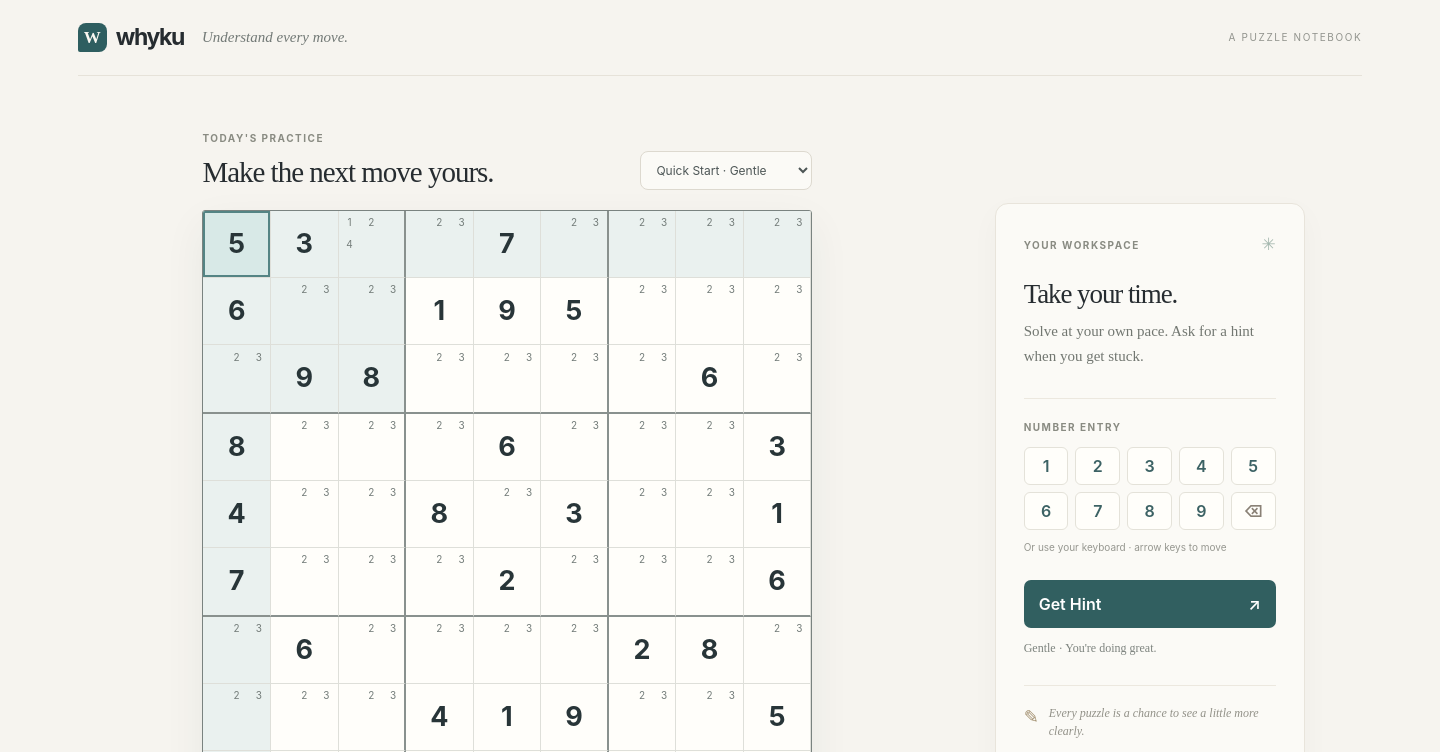
Test case: playable grid › keeps the selected editable cell selected after keyboard entry and refreshes backend candidates
Click the cell named "row 1, column 3, empty" at (372, 244), box [338, 211, 406, 278]
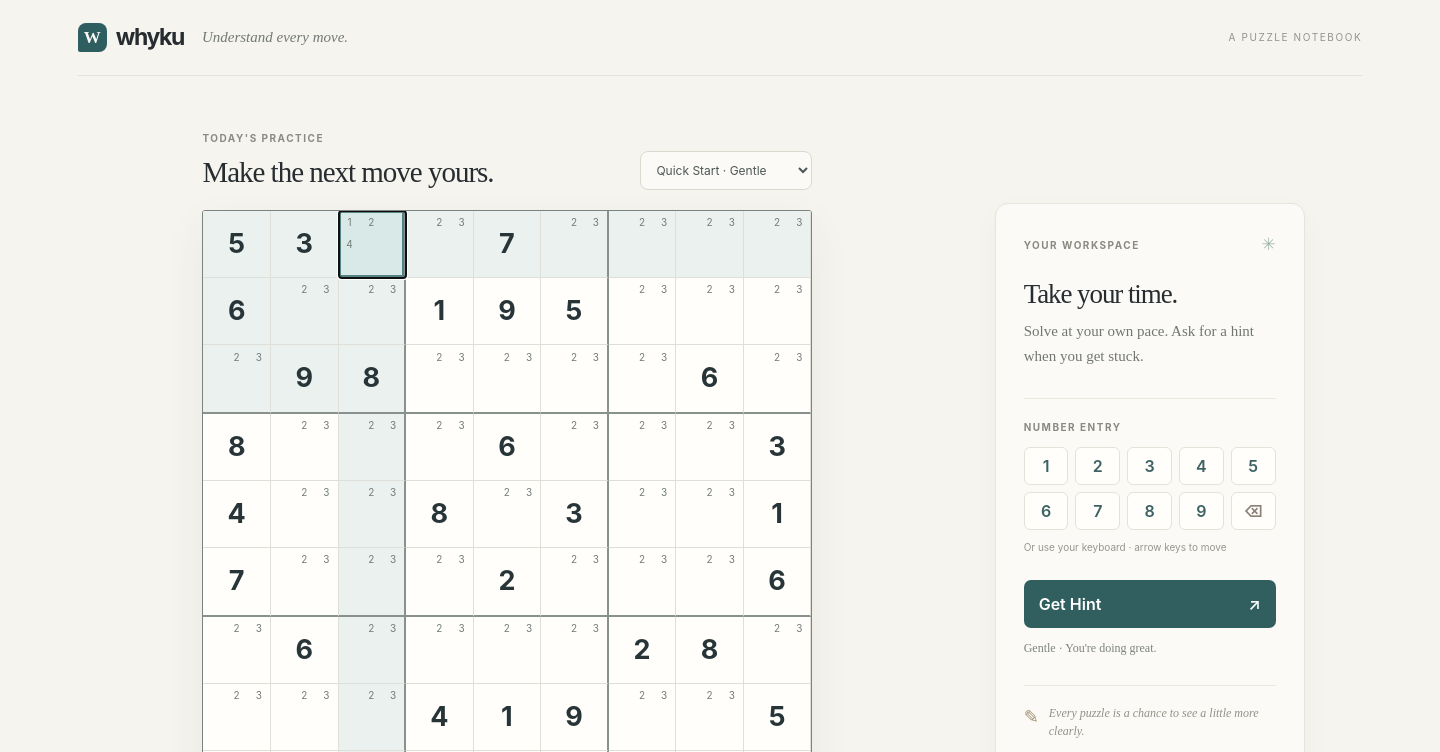
Type keys "8"
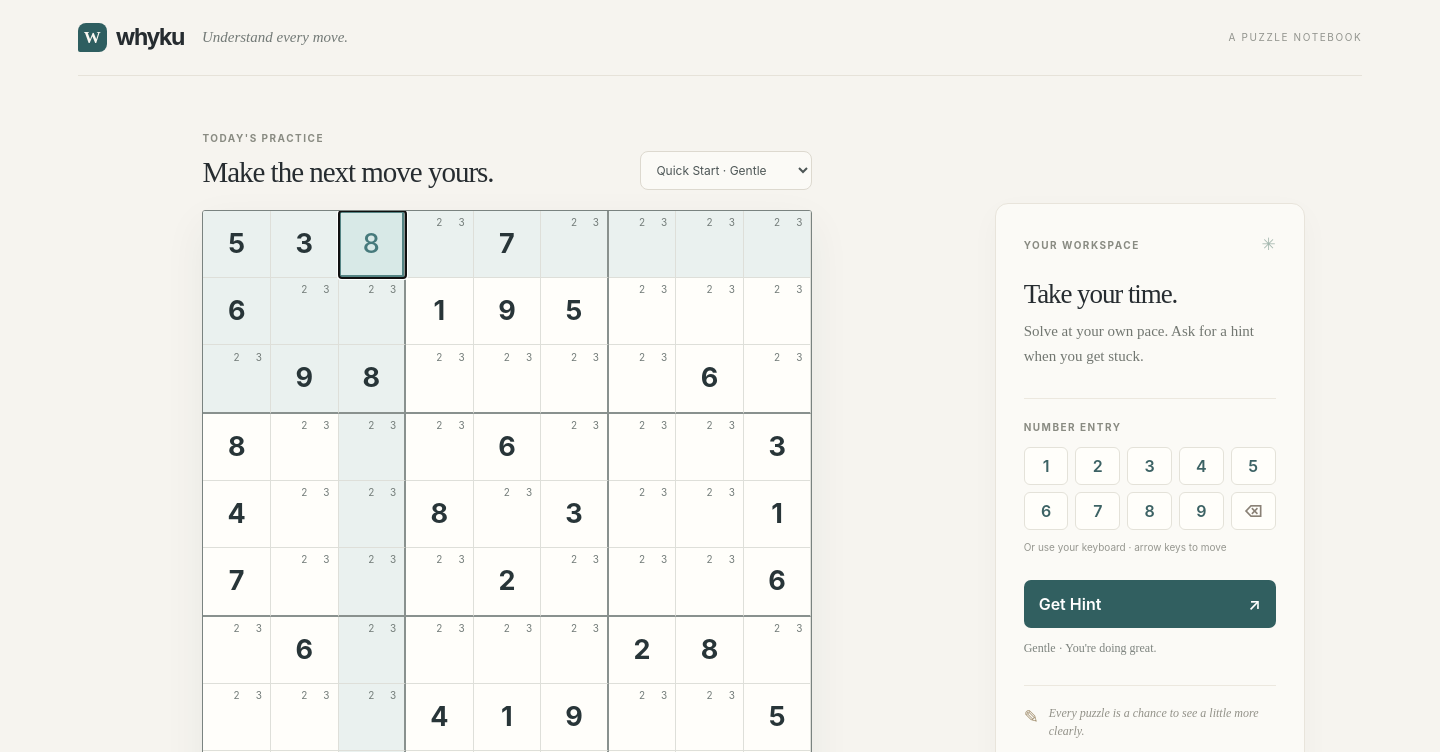
Expected: the cell named "row 1, column 3, empty" reads "8", [338, 211, 406, 278]
